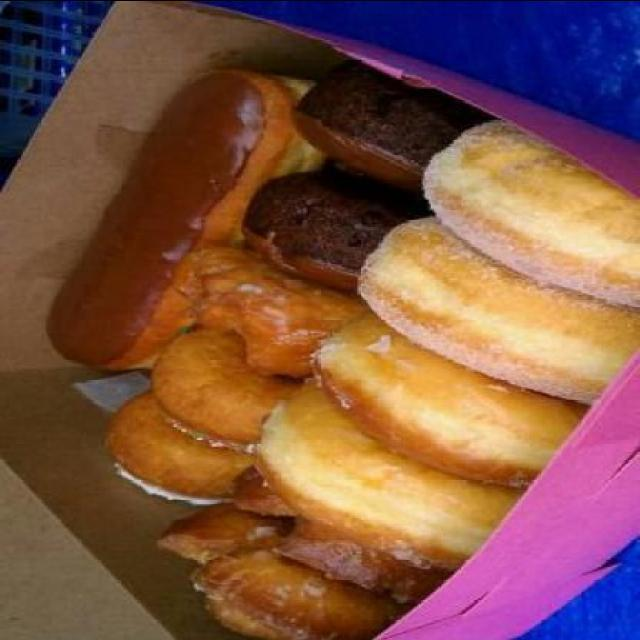Donuts: (52, 80, 638, 636)
